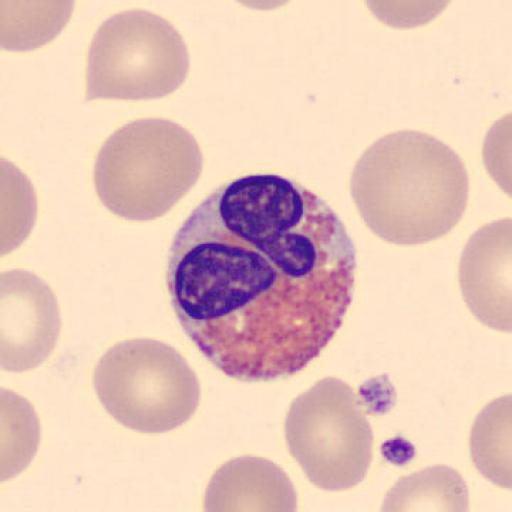RBC: (348, 127, 471, 248), (90, 114, 206, 224), (283, 371, 375, 494), (91, 336, 203, 436), (84, 6, 192, 104), (1, 266, 64, 374), (456, 215, 512, 335), (202, 453, 300, 512), (376, 461, 472, 512), (468, 389, 512, 494), (2, 0, 78, 54), (1, 155, 40, 260), (2, 386, 42, 484), (480, 107, 512, 205), (360, 0, 458, 31), (219, 0, 306, 11)
WBC: (164, 172, 361, 382)
